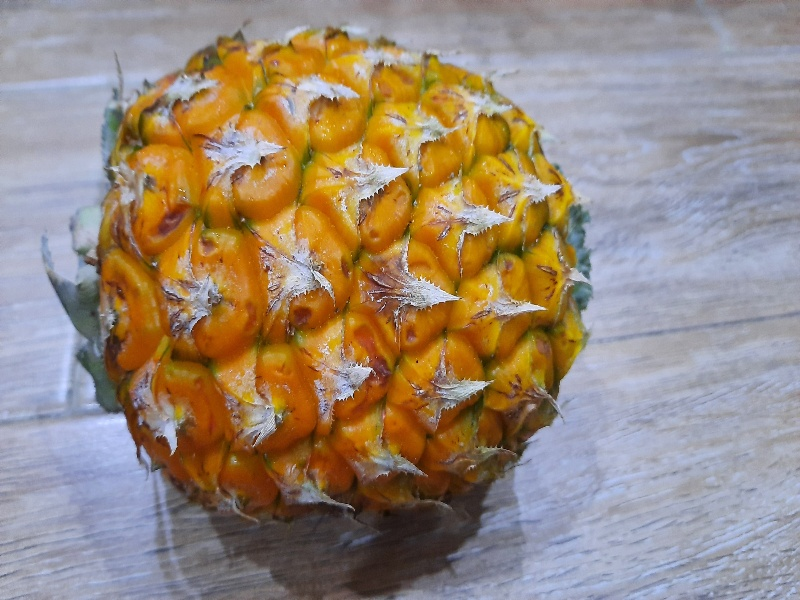fruit: (87, 28, 599, 536)
